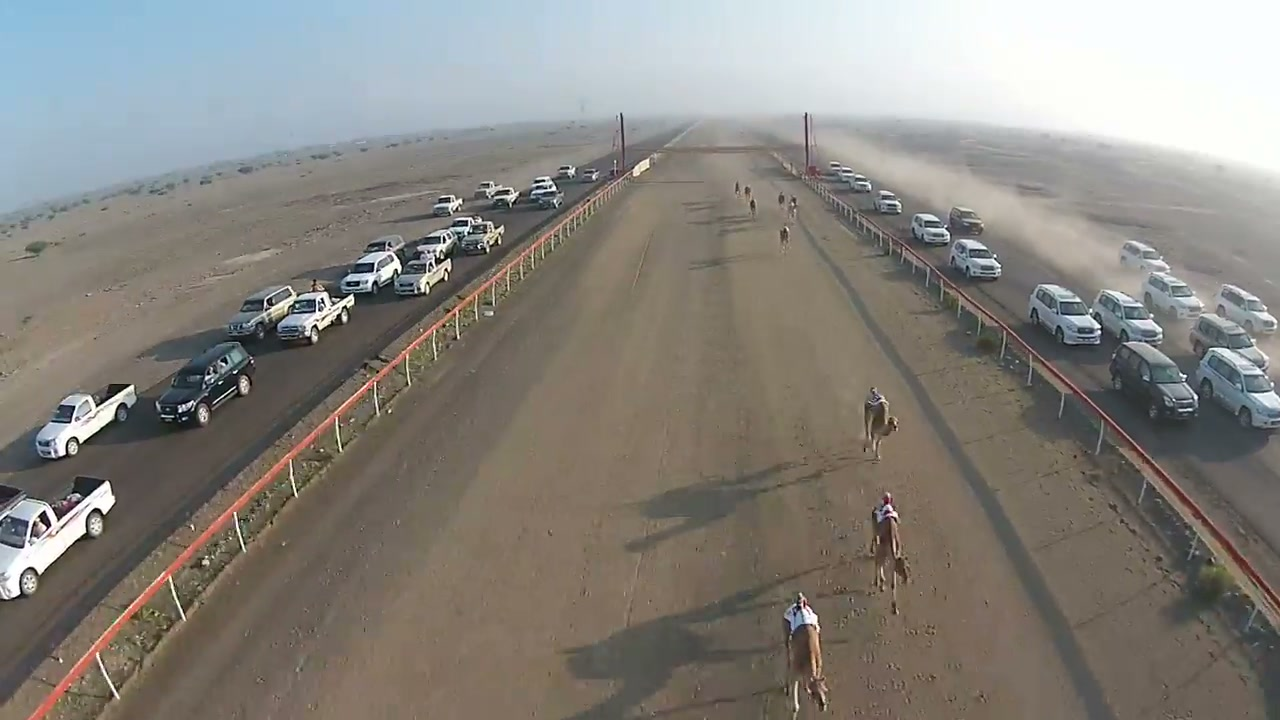animal_foot_print: (833, 586, 970, 706)
